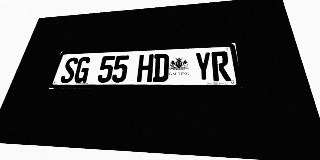5: (97, 56, 115, 83), (111, 55, 129, 82)
D: (152, 53, 169, 82)
G: (72, 57, 92, 83)
H: (136, 54, 154, 82)
R: (211, 51, 231, 81)
S: (59, 57, 79, 83)
Y: (194, 52, 213, 81)
